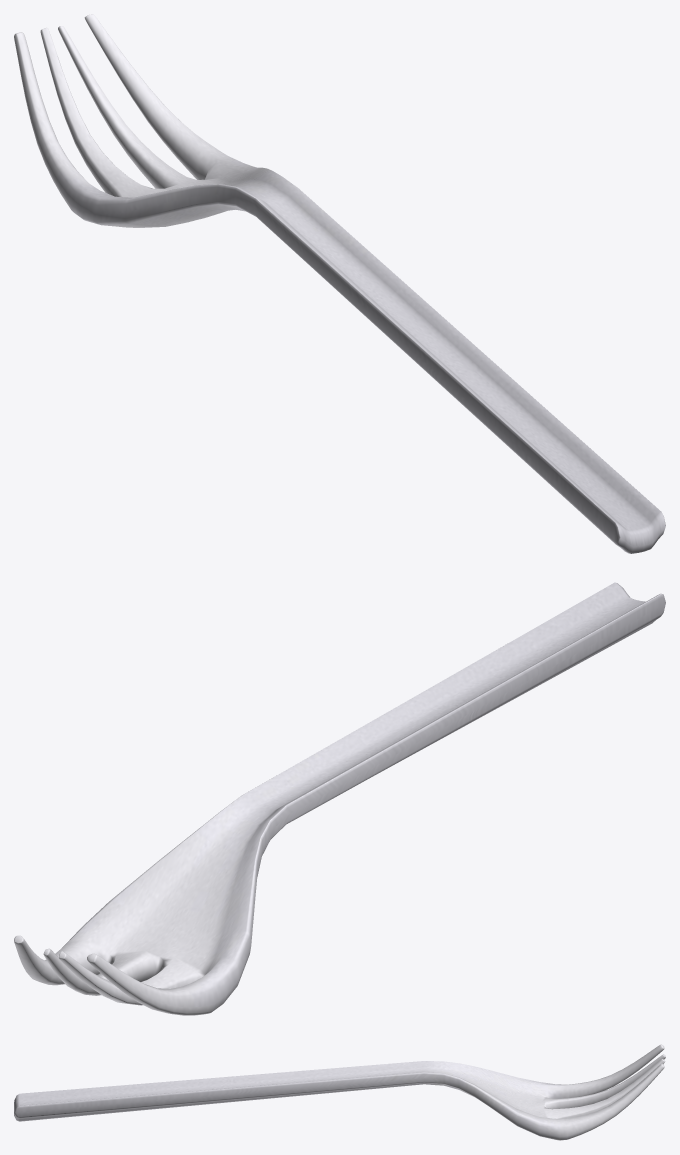
File: plastic_fork.glb
The picture shows the model from 3 angles, top to bottom: view 1: azimuth 30°, elevation 25°; view 2: azimuth 150°, elevation 25°; view 3: azimuth 270°, elevation 25°; orthographic projection. The views are drawn at different scales.
Parts seen in each view (by area): view 1: PlasticFork__HighRes1; view 2: PlasticFork__HighRes1; view 3: PlasticFork__HighRes1.
Boxes of the visible parts, <box> form: PlasticFork__HighRes1: <box>14,14,665,553</box>; PlasticFork__HighRes1: <box>14,582,665,1015</box>; PlasticFork__HighRes1: <box>14,1044,665,1140</box>.
Size of the model in its own units: 1.48 by 1.03 by 9.38.
1 material, 1 textured.
